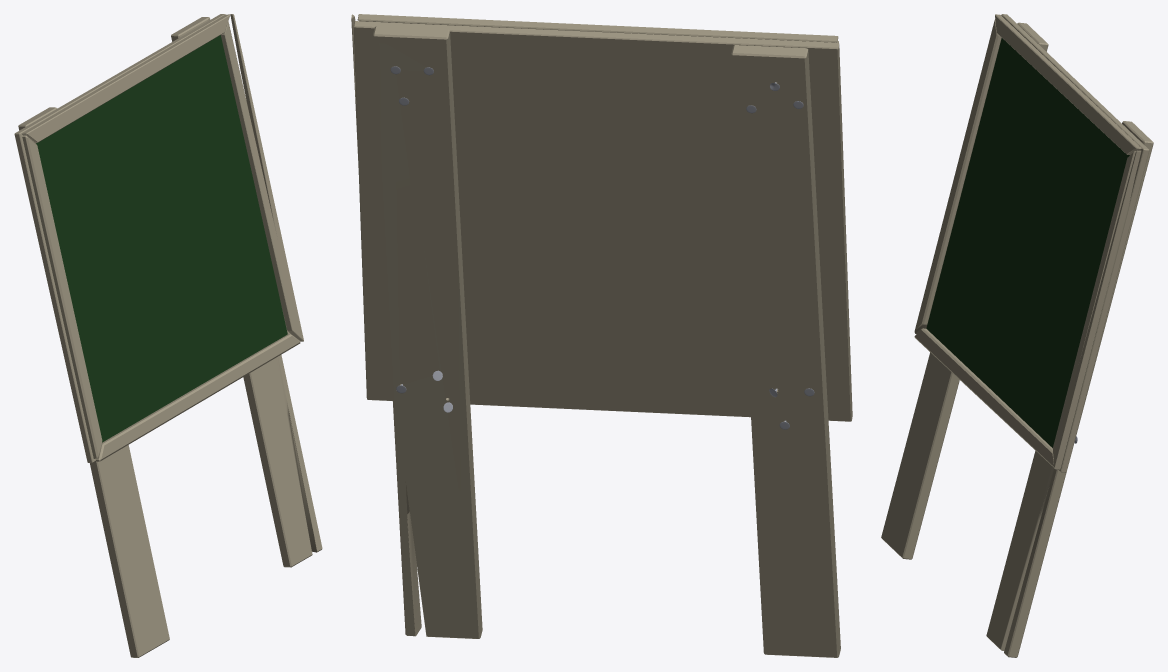
The model's file is board.glb.
The picture shows the model from 3 angles, left to right: view 1: azimuth 30°, elevation 25°; view 2: azimuth 150°, elevation 25°; view 3: azimuth 270°, elevation 25°; orthographic projection. The views are drawn at different scales.
Parts seen in each view (by area): view 1: Object_2, Object_3; view 2: Object_3, Object_4; view 3: Object_2, Object_3.
Boxes of the visible parts, <box> form: Object_2: <box>36,35,287,442</box>; Object_3: <box>14,14,322,657</box>; Object_3: <box>351,14,852,657</box>; Object_4: <box>390,66,814,429</box>; Object_2: <box>926,38,1129,447</box>; Object_3: <box>881,14,1153,657</box>.
Size of the model in its own units: 3.88 by 5.91 by 2.92.
